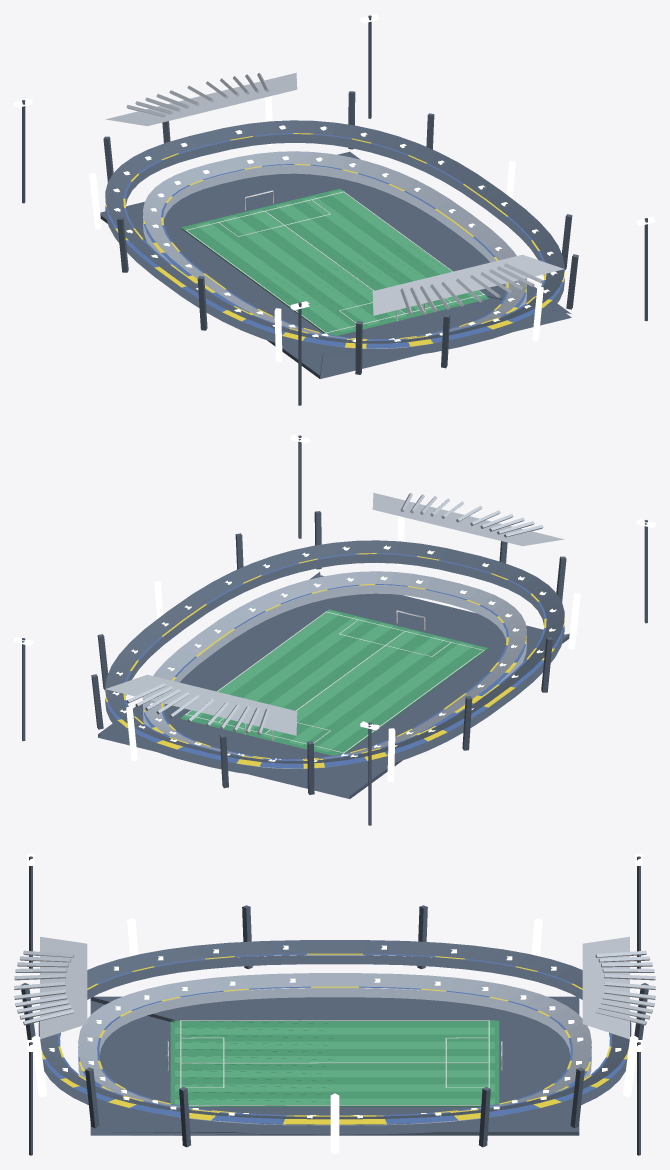
The model's file is al-awwal-park.glb.
The picture shows the model from 3 angles, top to bottom: view 1: azimuth 30°, elevation 25°; view 2: azimuth 150°, elevation 25°; view 3: azimuth 270°, elevation 25°; orthographic projection. The views are drawn at different scales.
Visible parts, largest first — view 1: Al-Awwal Park; view 2: Al-Awwal Park; view 3: Al-Awwal Park.
Part boxes in pixels (box(x1,y1,x2,y2)): Al-Awwal Park: box(14, 14, 655, 405); Al-Awwal Park: box(14, 434, 655, 825); Al-Awwal Park: box(14, 854, 655, 1155).
Size of the model in its own units: 54.6 by 15.5 by 76.25.
